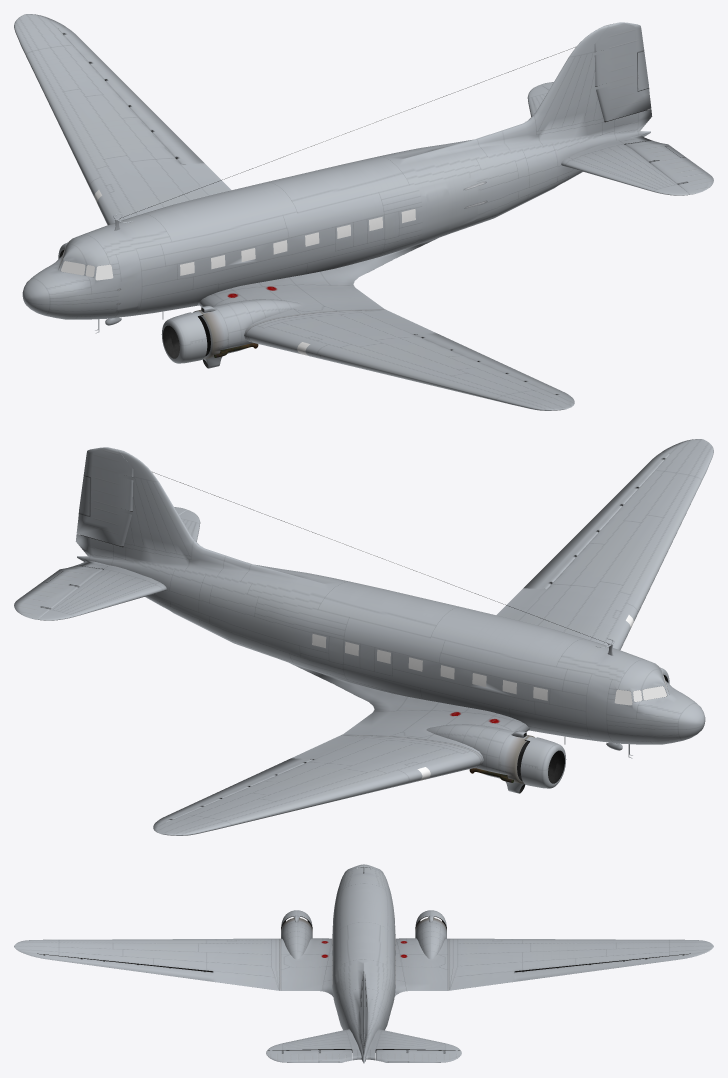
The picture shows the model from 3 angles, top to bottom: view 1: azimuth 30°, elevation 25°; view 2: azimuth 150°, elevation 25°; view 3: azimuth 270°, elevation 25°; orthographic projection. The views are drawn at different scales.
Parts seen in each view (by area): view 1: fuselage, ailes, direction, moteurs, ailes2, aileronD, vitres, profondeur, cargoB, aileronG, porteB, trous (+1 smaller); view 2: fuselage, ailes, direction, moteurs, ailes2, aileronG, vitres, profondeur, aileronD, trous; view 3: ailes, fuselage, ailes2, moteurs, profondeur, aileronD, aileronG, trous, direction.
Boxes of the visible parts, <box> form: fuselage: <box>22,25,652,319</box>; ailes: <box>14,14,574,410</box>; direction: <box>594,22,651,121</box>; moteurs: <box>58,242,301,363</box>; ailes2: <box>527,85,689,195</box>; aileronD: <box>58,27,204,164</box>; vitres: <box>59,190,415,356</box>; profondeur: <box>540,82,713,194</box>; cargoB: <box>447,175,478,230</box>; aileronG: <box>415,333,570,397</box>; porteB: <box>424,187,448,240</box>; trous: <box>59,86,650,367</box>; fuselage: <box>75,450,705,744</box>; ailes: <box>153,439,713,835</box>; direction: <box>76,447,133,546</box>; moteurs: <box>426,667,669,788</box>; ailes2: <box>38,510,200,620</box>; aileronG: <box>523,452,669,589</box>; vitres: <box>312,615,668,781</box>; profondeur: <box>14,507,187,619</box>; aileronD: <box>157,758,312,822</box>; trous: <box>77,511,668,792</box>; ailes: <box>14,938,713,996</box>; fuselage: <box>332,864,395,1063</box>; ailes2: <box>267,1029,460,1060</box>; moteurs: <box>281,910,446,959</box>; profondeur: <box>266,1050,461,1062</box>; aileronD: <box>514,954,690,981</box>; aileronG: <box>37,954,213,981</box>; trous: <box>37,916,690,1052</box>; direction: <box>361,974,366,1046</box>.
Size of the model in its own units: 19.68 by 5.84 by 29.33.
Materials: 2 (1 with a texture image).
